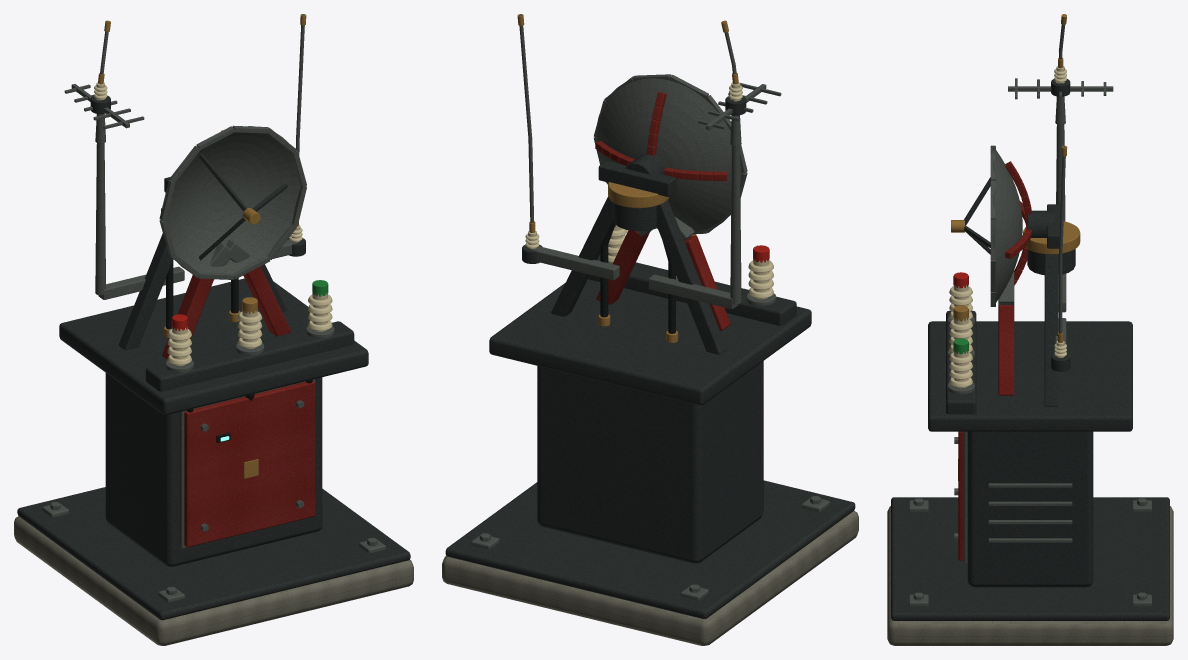
File: comms-2.glb
3 renders of one model, left to right at view 1: azimuth 30°, elevation 25°; view 2: azimuth 150°, elevation 25°; view 3: azimuth 270°, elevation 25°, orthographic. The views are drawn at different scales.
Parts seen in each view (by area): view 1: Cast foundation edge, Red armored service cover, Radio equipment load deck, Armored electrical cabinet, Vox parabolic reflector, Ferrocrete ground-contact plinth, Load-bearing power and circuit crossarm, Vox tower splayed load leg, Braced radio mast, Gothic load path.001, Gothic load path, Red armored service cover steel lip (+1 smaller); view 2: Armored electrical cabinet, Cast foundation edge, Radio equipment load deck, Ferrocrete ground-contact plinth, Vox parabolic reflector, Vox tower splayed load leg, Load-bearing power and circuit crossarm, Vox tower splayed load leg.001, Braced radio mast, Reflector yoke crossmember, Supported radio side platform, Supported radio side platform.001 (+5 smaller); view 3: Cast foundation edge, Armored electrical cabinet, Radio equipment load deck, Ferrocrete ground-contact plinth, Vox parabolic reflector, Vox tower splayed load leg.001, Gothic load path.001, Load-bearing power and circuit crossarm, Vox yaw thrust bearing, Red armored service cover, Fixed turntable riser, Red armored service cover steel lip (+9 smaller).
Boxes of the visible parts, left/top/right/bottom form: Cast foundation edge: left=17, top=487, right=410, bottom=620; Red armored service cover: left=184, top=381, right=315, bottom=547; Radio equipment load deck: left=59, top=278, right=368, bottom=414; Armored electrical cabinet: left=105, top=373, right=322, bottom=566; Vox parabolic reflector: left=162, top=126, right=301, bottom=273; Ferrocrete ground-contact plinth: left=14, top=516, right=413, bottom=645; Load-bearing power and circuit crossarm: left=145, top=321, right=354, bottom=391; Vox tower splayed load leg: left=118, top=233, right=173, bottom=350; Braced radio mast: left=95, top=143, right=105, bottom=295; Gothic load path.001: left=243, top=266, right=290, bottom=336; Gothic load path: left=162, top=275, right=213, bottom=359; Red armored service cover steel lip: left=179, top=379, right=315, bottom=548; Armored electrical cabinet: left=537, top=361, right=763, bottom=563; Cast foundation edge: left=445, top=480, right=855, bottom=618; Radio equipment load deck: left=489, top=279, right=811, bottom=405; Ferrocrete ground-contact plinth: left=442, top=511, right=858, bottom=645; Vox parabolic reflector: left=597, top=75, right=743, bottom=234; Vox tower splayed load leg: left=656, top=200, right=726, bottom=354; Load-bearing power and circuit crossarm: left=588, top=254, right=796, bottom=325; Vox tower splayed load leg.001: left=551, top=196, right=613, bottom=316; Braced radio mast: left=730, top=145, right=741, bottom=304; Reflector yoke crossmember: left=598, top=161, right=676, bottom=196; Supported radio side platform: left=648, top=274, right=738, bottom=309; Supported radio side platform.001: left=530, top=246, right=619, bottom=280; Cast foundation edge: left=891, top=497, right=1169, bottom=620; Armored electrical cabinet: left=967, top=431, right=1093, bottom=587; Radio equipment load deck: left=928, top=321, right=1132, bottom=431; Ferrocrete ground-contact plinth: left=887, top=506, right=1173, bottom=645; Vox parabolic reflector: left=993, top=147, right=1022, bottom=302; Vox tower splayed load leg.001: left=1044, top=254, right=1058, bottom=406; Gothic load path.001: left=998, top=305, right=1014, bottom=395; Load-bearing power and circuit crossarm: left=946, top=310, right=976, bottom=414; Vox yaw thrust bearing: left=1023, top=221, right=1080, bottom=254; Red armored service cover: left=958, top=431, right=963, bottom=560; Fixed turntable riser: left=1027, top=249, right=1075, bottom=275; Red armored service cover steel lip: left=963, top=431, right=967, bottom=564.
Size of the model in its own units: 1.9 by 3.89 by 1.9.
Materials: 10 (7 with a texture image).
